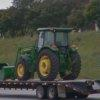Tractor: (11, 25, 83, 78)
